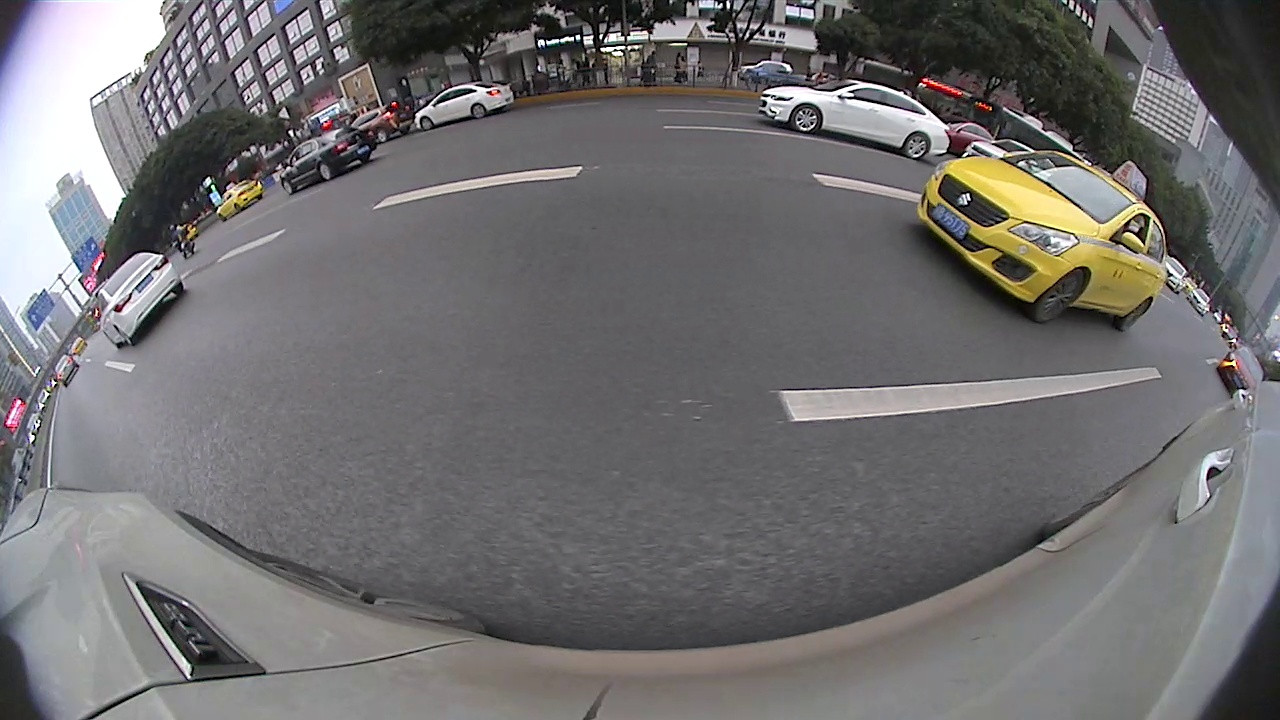bus: (963, 95, 1092, 171)
car: (916, 149, 1168, 332), (756, 79, 951, 160), (96, 251, 185, 350), (282, 126, 378, 195), (413, 79, 515, 131), (1215, 347, 1263, 400), (215, 178, 263, 223)
front: (1030, 275, 1087, 321), (791, 106, 820, 131), (283, 180, 294, 194), (421, 118, 433, 129)
rear: (1115, 298, 1150, 331), (906, 134, 928, 157), (319, 164, 332, 180), (472, 105, 485, 118)
